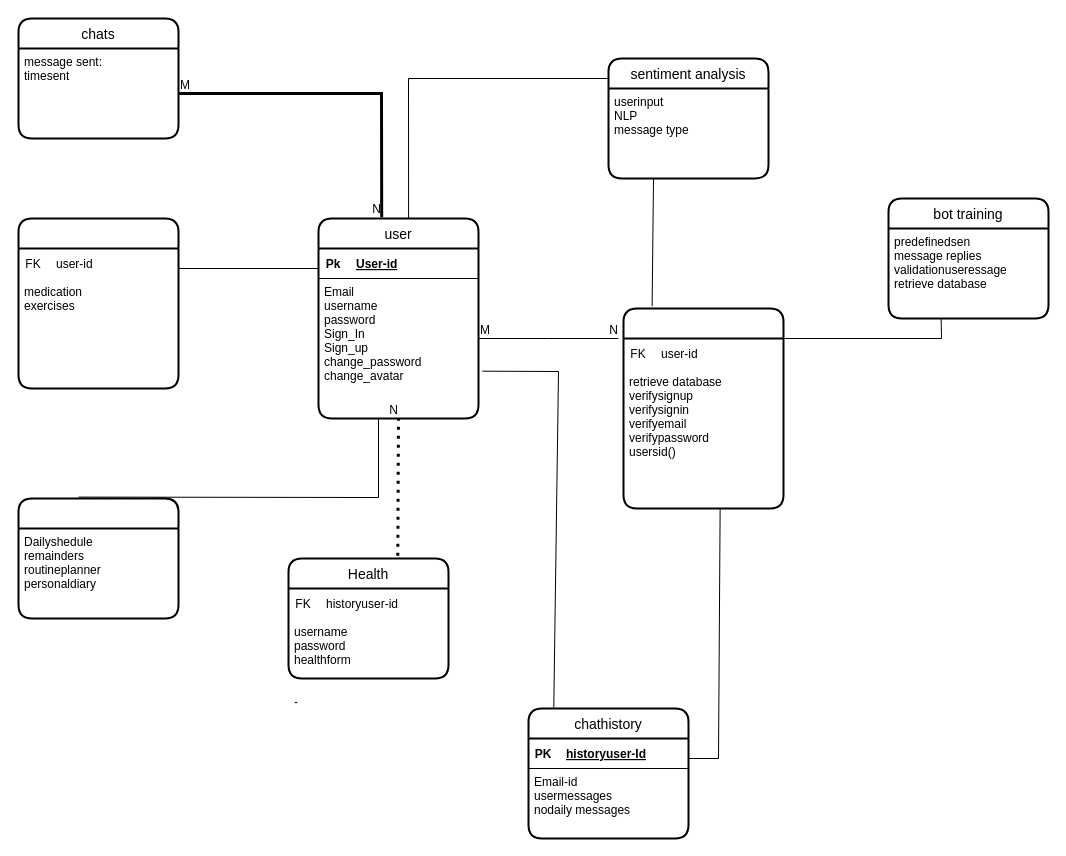
Some shapes in this 1066 by 856 pixel diagram are drawn without their labels. The box of each missing label's shape, as (x1, y1, x2, y2) in pixels:
chatbot System: (622, 307, 784, 509)
personal assistance: (17, 497, 179, 619)
problem solution: (17, 217, 179, 389)
